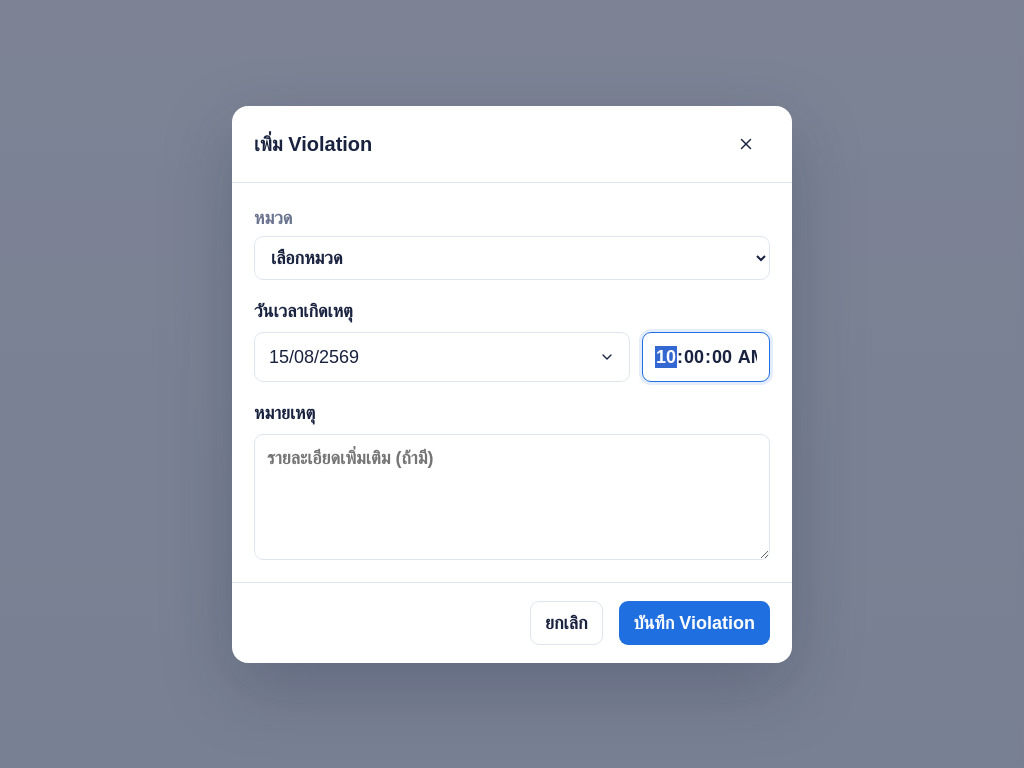
Test: CreateViolationModal › explains a category deactivated meanwhile and reloads the list
Select "จอดรถผิดระเบียบ" in the dropdown labelled "หมวด" at (512, 258), box left=254, top=236, right=770, bottom=280
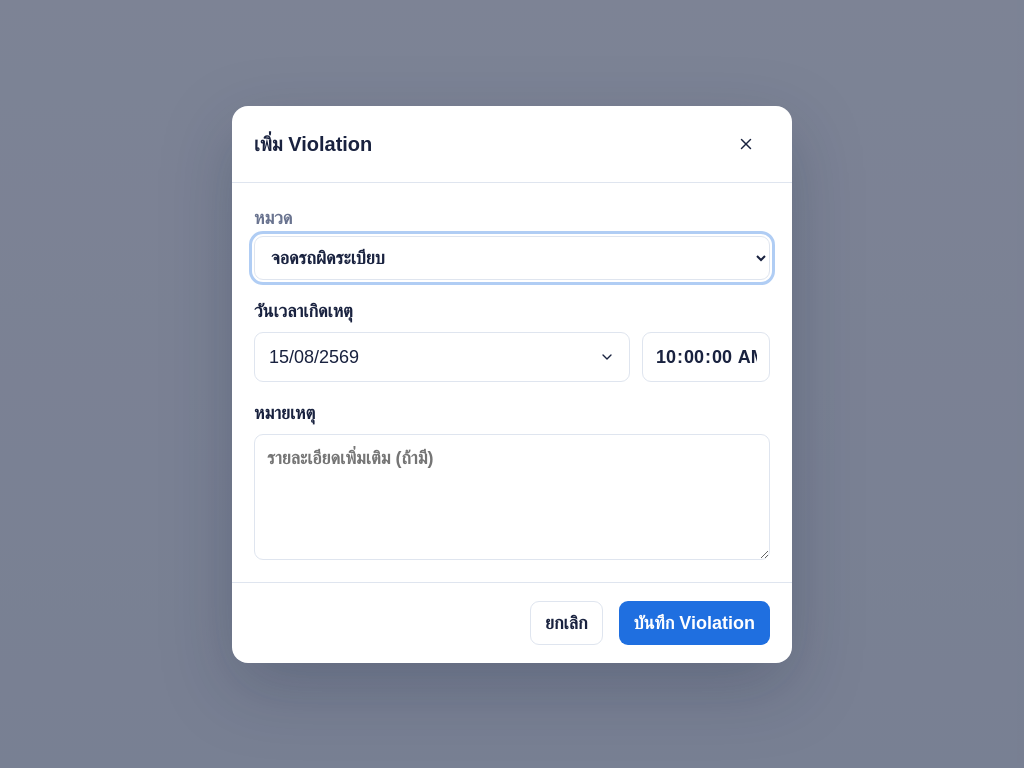
Click the button "บันทึก Violation" at (694, 622), box left=618, top=600, right=770, bottom=644
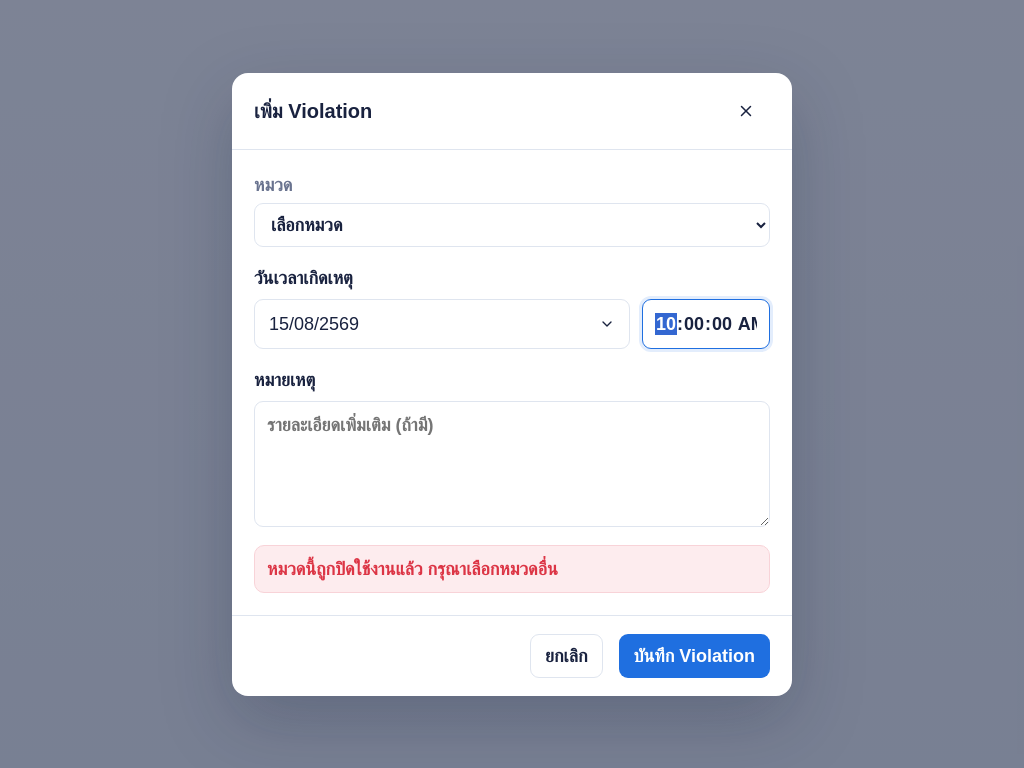
Check: the option "จอดรถผิดระเบียบ" is not shown
Check: the text "หมวดนี้ถูกปิดใช้งานแล้ว กรุณาเลือกหมวดอื่น" is shown, box left=254, top=544, right=770, bottom=592
